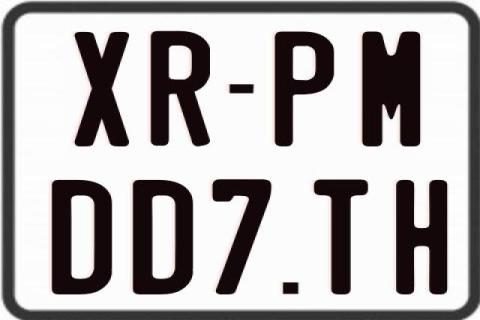0: (212, 177, 276, 295)
D: (132, 180, 196, 298), (49, 180, 111, 298)
H: (396, 179, 447, 295)
M: (359, 30, 420, 146)
P: (273, 32, 334, 150)
R: (149, 30, 213, 146)
T: (314, 179, 368, 297)
X: (72, 32, 130, 149)
